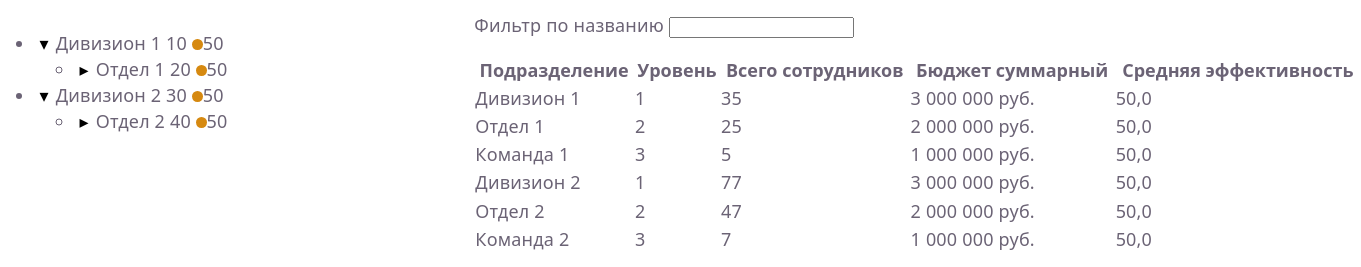
OrgTreeScreen: фоновая ревалидация › AC-001-3: ревалидация неизменённых данных — условный запрос, 304, прежние данные и раскрытие
Click the button named "Свернуть Дивизион 1" at (44, 43), box [40,30,48,56]
Wait 5100 ms
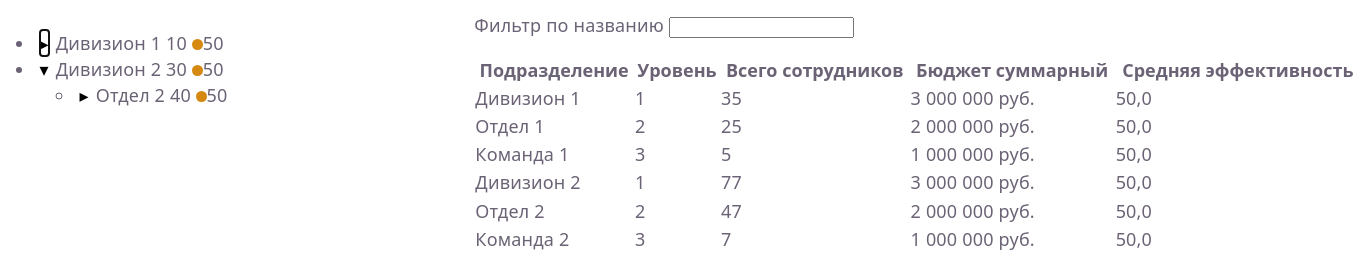
Expected: the text with test id "node-headcount" reads "10", [166,31,187,55]
Result: the button named "Развернуть Дивизион 1" is shown at [40,30,48,56]
